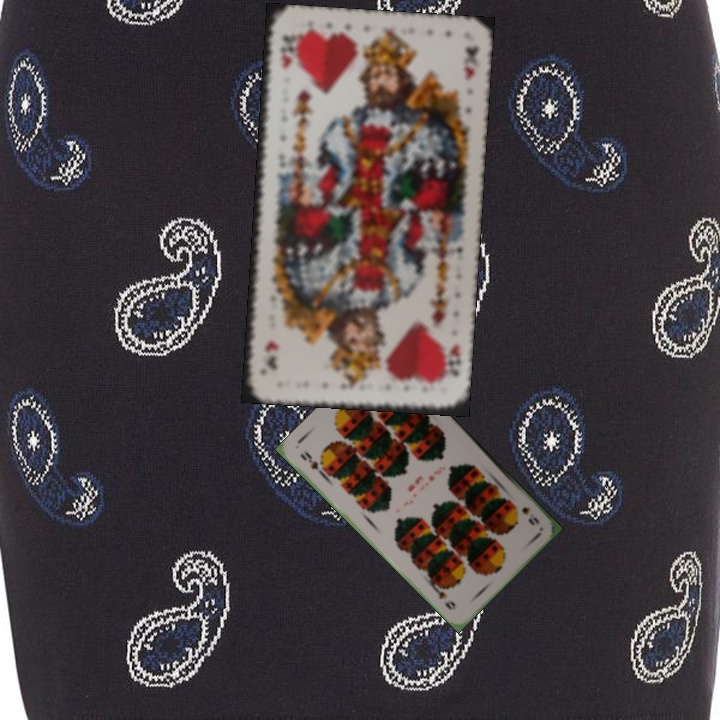HK: (436, 341, 463, 385), (278, 31, 298, 70)
S9: (296, 448, 329, 479), (517, 503, 542, 528)
